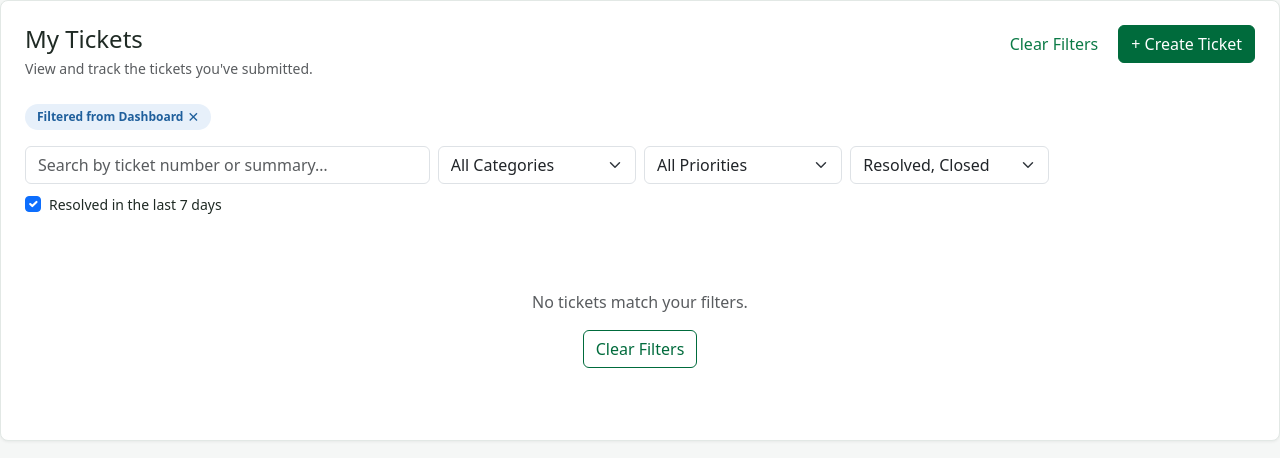
Drill-down filters (UI-05) › UI-05: My Tickets applies status list + resolvedWithinDays from the URL, shows the chip, and Clear Filters removes it
The image size is (1280, 458).
Expected: the text "Filtered from Dashboard" is shown, [37,108,184,126]
Expected: the dropdown named "Filter by status" shows "Resolved, Closed", [850,146,1049,184]
Click the button "Clear Filters" next to "+ Create Ticket" at (1054, 44), box [998,25,1110,63]
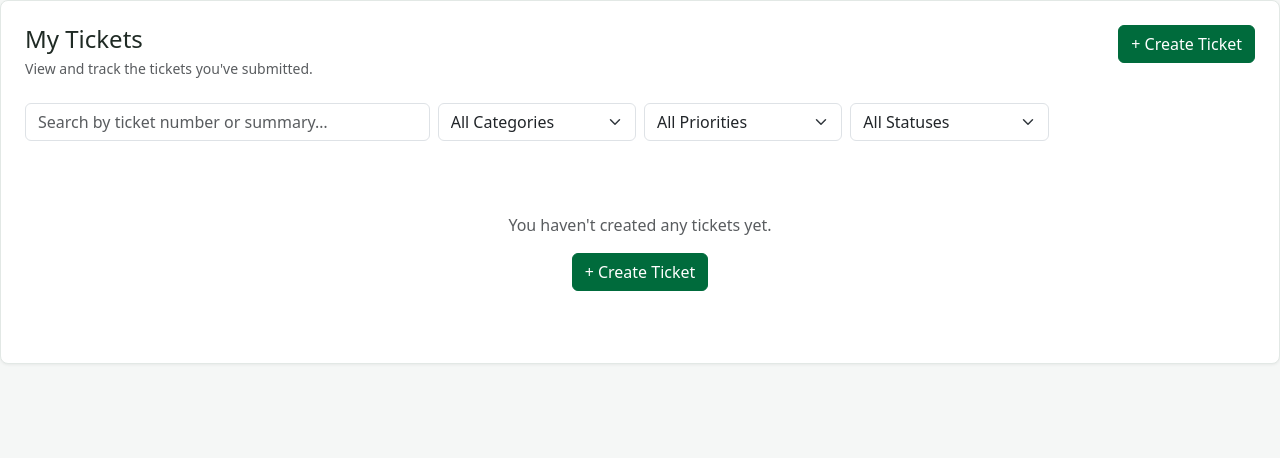
Now the text "Filtered from Dashboard" is gone
